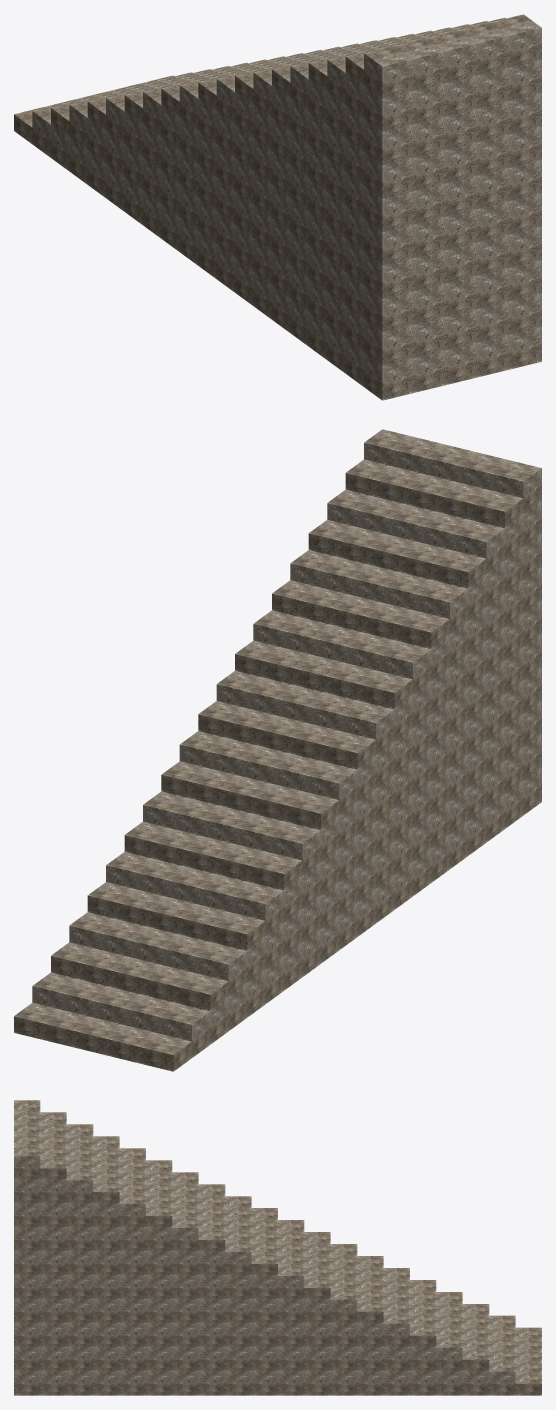
3 renders of one model, top to bottom at view 1: azimuth 30°, elevation 25°; view 2: azimuth 150°, elevation 25°; view 3: azimuth 270°, elevation 25°, orthographic. The views are drawn at different scales.
Parts seen in each view (by area): view 1: TexturesCom_ConcreteRough0076_1_seamless_S; view 2: TexturesCom_ConcreteRough0076_1_seamless_S; view 3: TexturesCom_ConcreteRough0076_1_seamless_S.
Boxes of the visible parts, x1=… form: TexturesCom_ConcreteRough0076_1_seamless_S: x1=14, y1=14, x2=541, y2=400; TexturesCom_ConcreteRough0076_1_seamless_S: x1=14, y1=429, x2=541, y2=1071; TexturesCom_ConcreteRough0076_1_seamless_S: x1=14, y1=1100, x2=541, y2=1395.
Bounding box in the file's own units: 5 × 10 × 20.
Materials: 1 (1 with a texture image).
